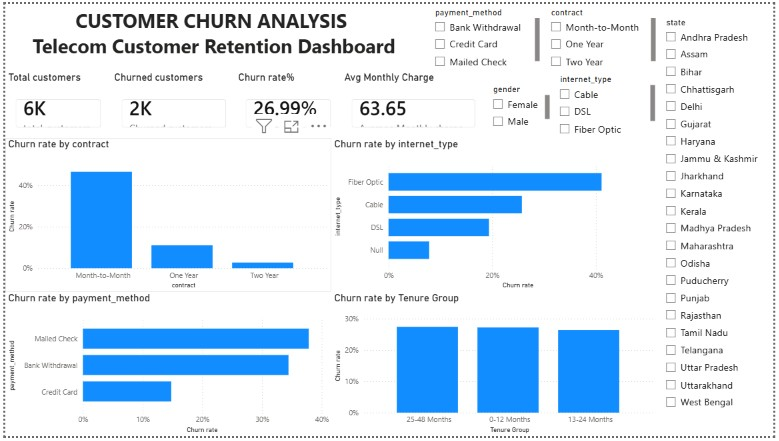

What the dashboard file says about the page in this screenshot:
{"tool":"powerbi","page":{"name":"Page 1","canvas":[1280,720],"ordinal":0},"visuals":[{"type":"textbox","box":[0,0,704,112],"z":0},{"type":"cardVisual","title":"Avg Monthly Charge","fields":{"Data":["customer_churn v_clean_customer_data.Average Monthly charge"]},"box":[560,112,240,112],"z":1000},{"type":"cardVisual","title":"Churned customers","fields":{"Data":["customer_churn v_clean_customer_data.Churned customers"]},"box":[176,112,208,112],"z":2000},{"type":"cardVisual","title":"Total customers","fields":{"Data":["customer_churn v_clean_customer_data.total_customers"]},"box":[0,112,176,112],"z":3000},{"type":"cardVisual","title":"Churn rate%","fields":{"Data":["customer_churn v_clean_customer_data.Churn rate"]},"box":[384,112,176,112],"z":4000},{"type":"barChart","fields":{"Category":["customer_churn v_clean_customer_data.contract"],"Y":["customer_churn v_clean_customer_data.Churn rate"]},"box":[0,192,544,272],"z":5000},{"type":"clusteredBarChart","fields":{"Category":["customer_churn v_clean_customer_data.payment_method"],"Y":["customer_churn v_clean_customer_data.Churn rate"]},"box":[544,464,544,256],"z":6000},{"type":"clusteredColumnChart","fields":{"Category":["customer_churn v_clean_customer_data.internet_type"],"Y":["customer_churn v_clean_customer_data.Churn rate"]},"box":[544,192,544,272],"z":7000},{"type":"columnChart","fields":{"Category":["customer_churn v_clean_customer_data.Tenure Group"],"Y":["customer_churn v_clean_customer_data.Churn rate"]},"box":[0,464,544,256],"z":8000},{"type":"slicer","fields":{"Values":["customer_churn v_clean_customer_data.state"]},"box":[1088,80,192,640],"z":9000},{"type":"slicer","fields":{"Values":["customer_churn v_clean_customer_data.contract"]},"box":[896,0,192,112],"z":10000},{"type":"slicer","fields":{"Values":["customer_churn v_clean_customer_data.internet_type"]},"box":[896,112,192,112],"z":11000},{"type":"slicer","fields":{"Values":["customer_churn v_clean_customer_data.payment_method"]},"box":[704,0,192,112],"z":12000},{"type":"slicer","fields":{"Values":["customer_churn v_clean_customer_data.gender"]},"box":[1088,0,192,80],"z":13000}]}

Visuals, with their boxes in screenshot pixels (x1, y1, x2, y2), scaled from the page's 1280x720 canvas onto the 779x441 screenshot:
textbox: rect(0, 0, 428, 69)
"Avg Monthly Charge" cardVisual: rect(341, 69, 487, 137)
"Churned customers" cardVisual: rect(107, 69, 234, 137)
"Total customers" cardVisual: rect(0, 69, 107, 137)
"Churn rate%" cardVisual: rect(234, 69, 341, 137)
barChart - customer_churn v_clean_customer_data.contract x customer_churn v_clean_customer_data.Churn rate: rect(0, 118, 331, 284)
clusteredBarChart - customer_churn v_clean_customer_data.payment_method x customer_churn v_clean_customer_data.Churn rate: rect(331, 284, 662, 440)
clusteredColumnChart - customer_churn v_clean_customer_data.internet_type x customer_churn v_clean_customer_data.Churn rate: rect(331, 118, 662, 284)
columnChart - customer_churn v_clean_customer_data.Tenure Group x customer_churn v_clean_customer_data.Churn rate: rect(0, 284, 331, 440)
slicer - customer_churn v_clean_customer_data.state: rect(662, 49, 778, 440)
slicer - customer_churn v_clean_customer_data.contract: rect(545, 0, 662, 69)
slicer - customer_churn v_clean_customer_data.internet_type: rect(545, 69, 662, 137)
slicer - customer_churn v_clean_customer_data.payment_method: rect(428, 0, 545, 69)
slicer - customer_churn v_clean_customer_data.gender: rect(662, 0, 778, 49)
